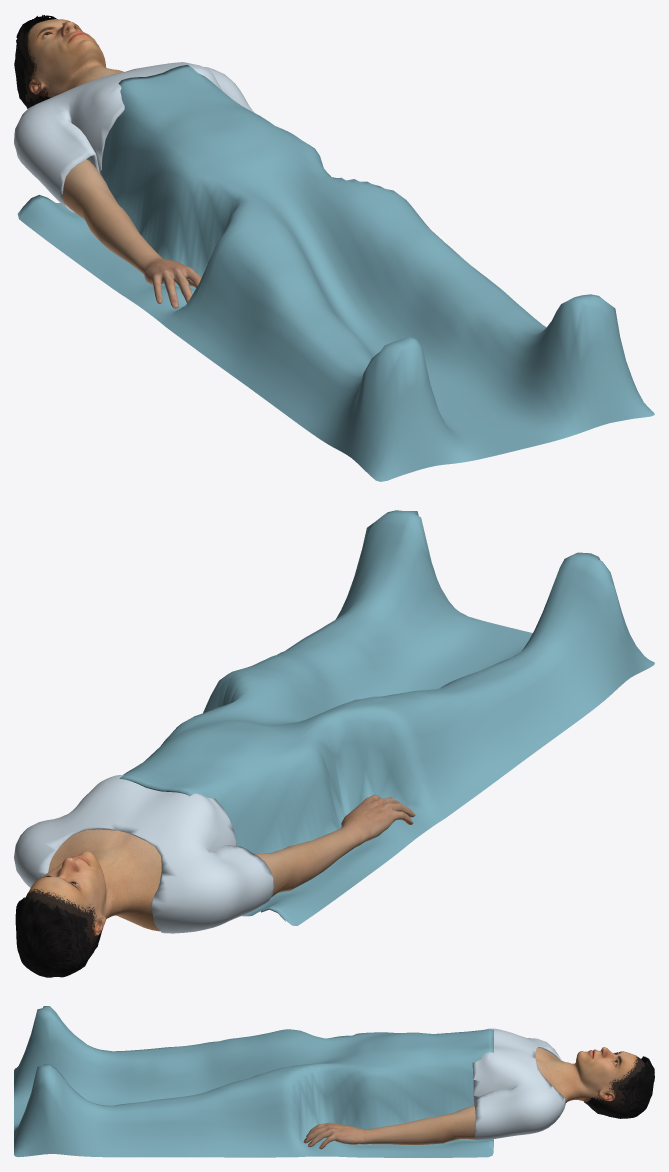
The picture shows the model from 3 angles, top to bottom: view 1: azimuth 30°, elevation 25°; view 2: azimuth 150°, elevation 25°; view 3: azimuth 270°, elevation 25°; orthographic projection. The views are drawn at different scales.
Visible parts, largest first — view 1: sheet, gown, arms, body, hair; view 2: sheet, gown, body, arms, hair; view 3: sheet, gown, body, arms, hair.
Boxes of the visible parts, left/top/right/bottom form: sheet: left=17, top=65, right=654, bottom=481; gown: left=14, top=62, right=254, bottom=212; arms: left=62, top=159, right=201, bottom=308; body: left=21, top=19, right=123, bottom=103; hair: left=14, top=15, right=57, bottom=108; sheet: left=119, top=510, right=654, bottom=925; gown: left=14, top=775, right=274, bottom=933; body: left=24, top=829, right=161, bottom=953; arms: left=254, top=794, right=415, bottom=897; hair: left=15, top=897, right=102, bottom=977; sheet: left=14, top=1006, right=493, bottom=1157; gown: left=472, top=1028, right=565, bottom=1140; body: left=535, top=1047, right=644, bottom=1109; arms: left=303, top=1105, right=475, bottom=1149; hair: left=584, top=1056, right=654, bottom=1118.
Bounding box in the file's own units: 0.6433 × 0.2531 × 1.95.
Materials: 8 (6 with a texture image).
